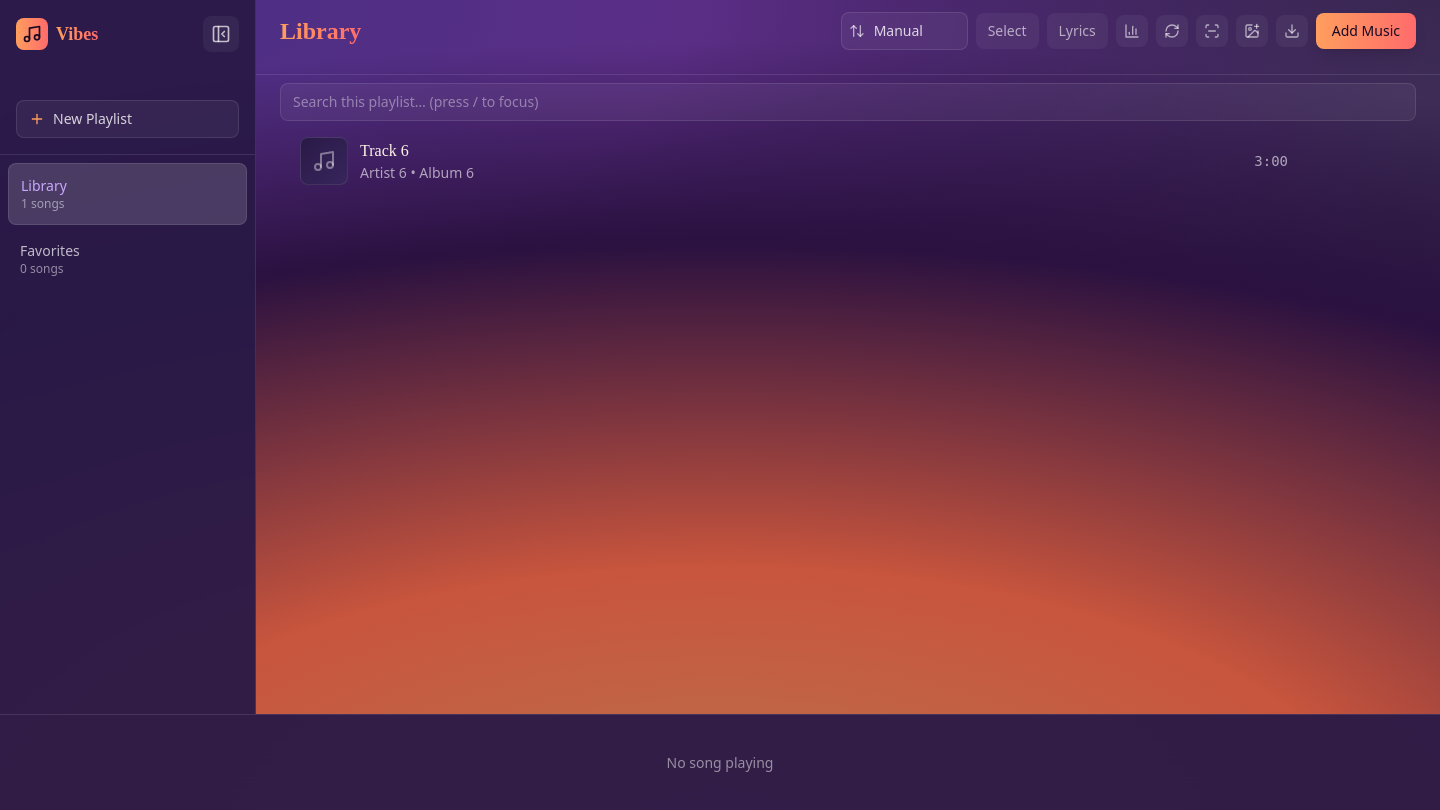
re-scan tags › reports how many tracks changed
Click the button named "Re-scan tags".
click(1212, 31)  # box 1196,15 -> 1228,47
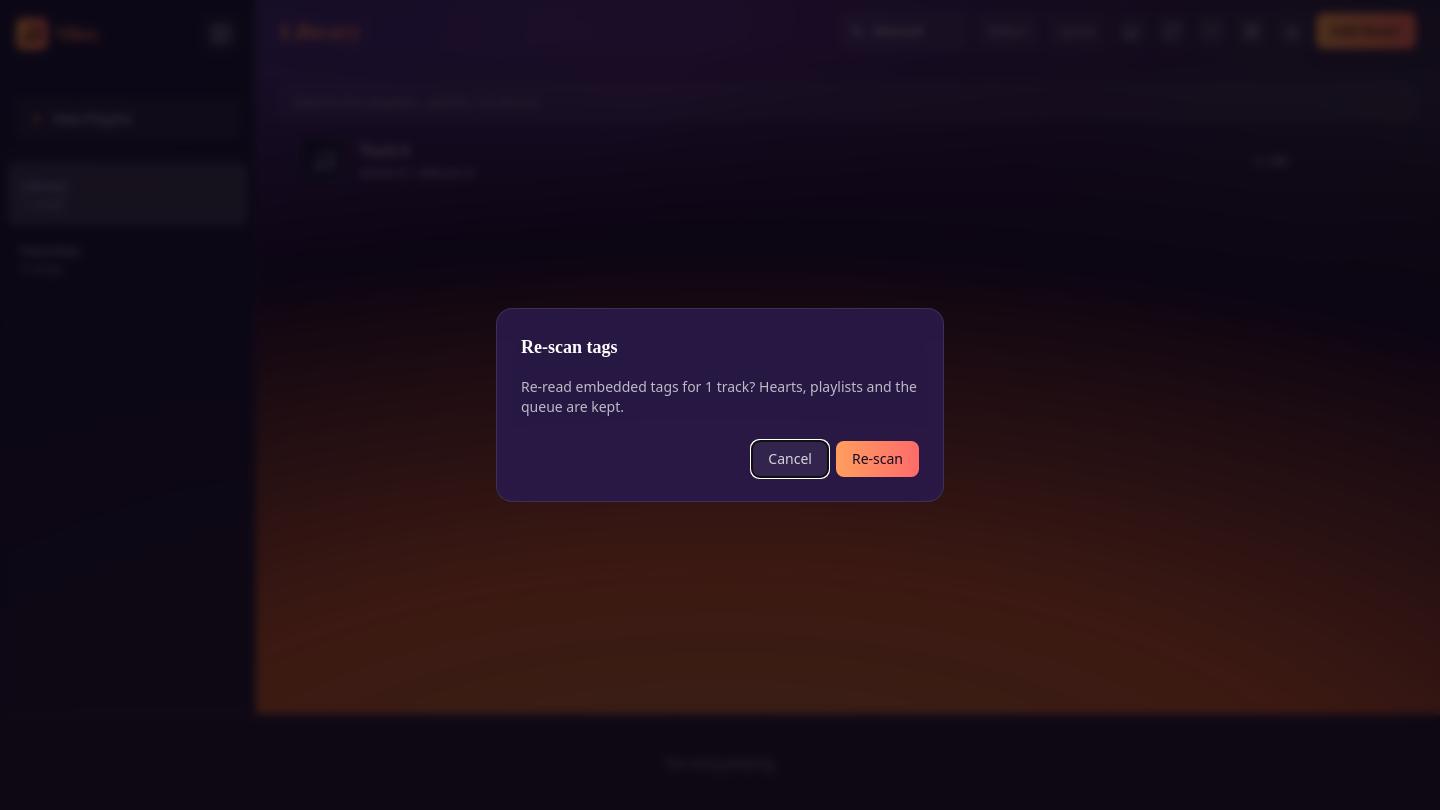
Click the button "Re-scan".
click(878, 459)  # box 836,441 -> 919,477
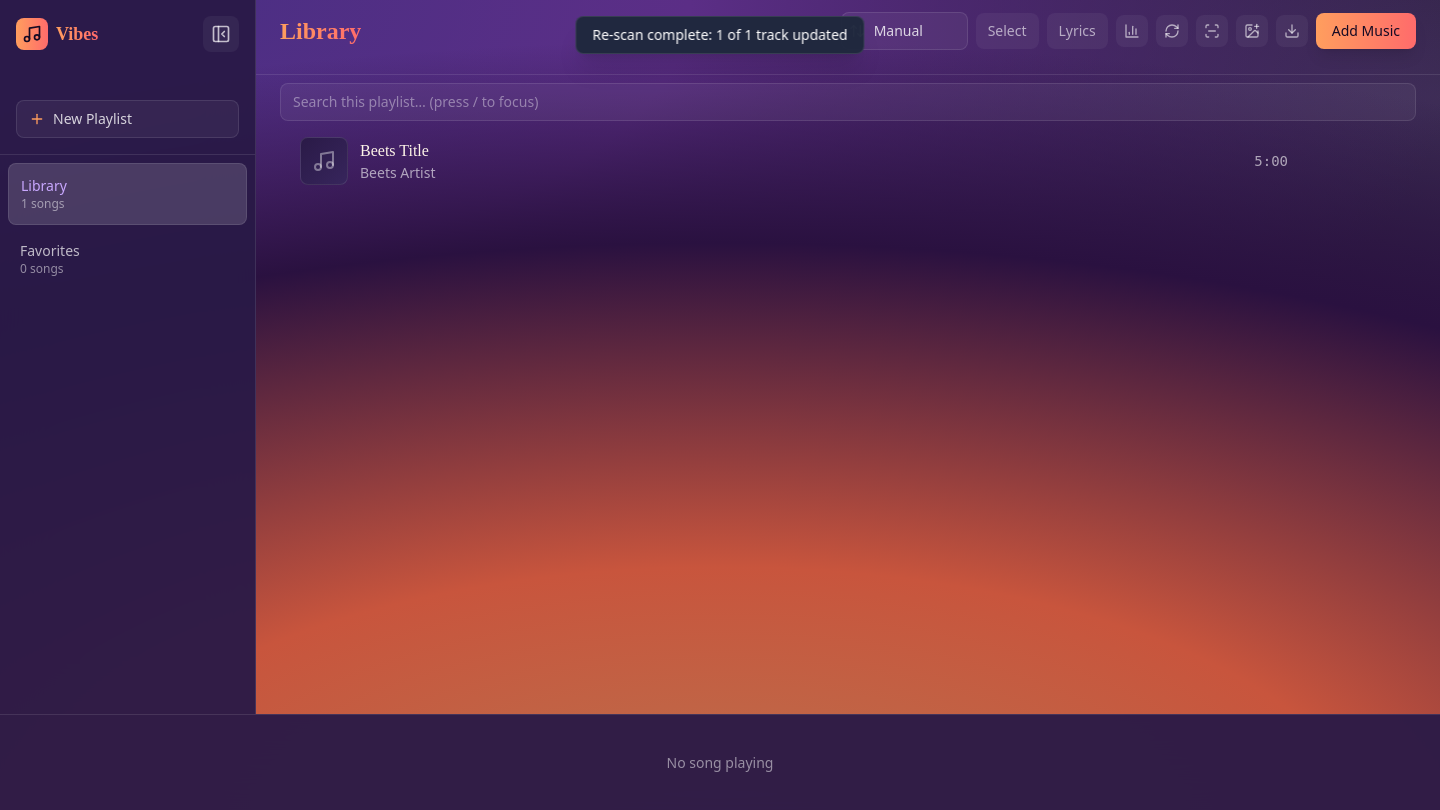
Check: the text "Re-scan complete: 1 of 1 track updated" is shown, box 575,16 -> 865,54
